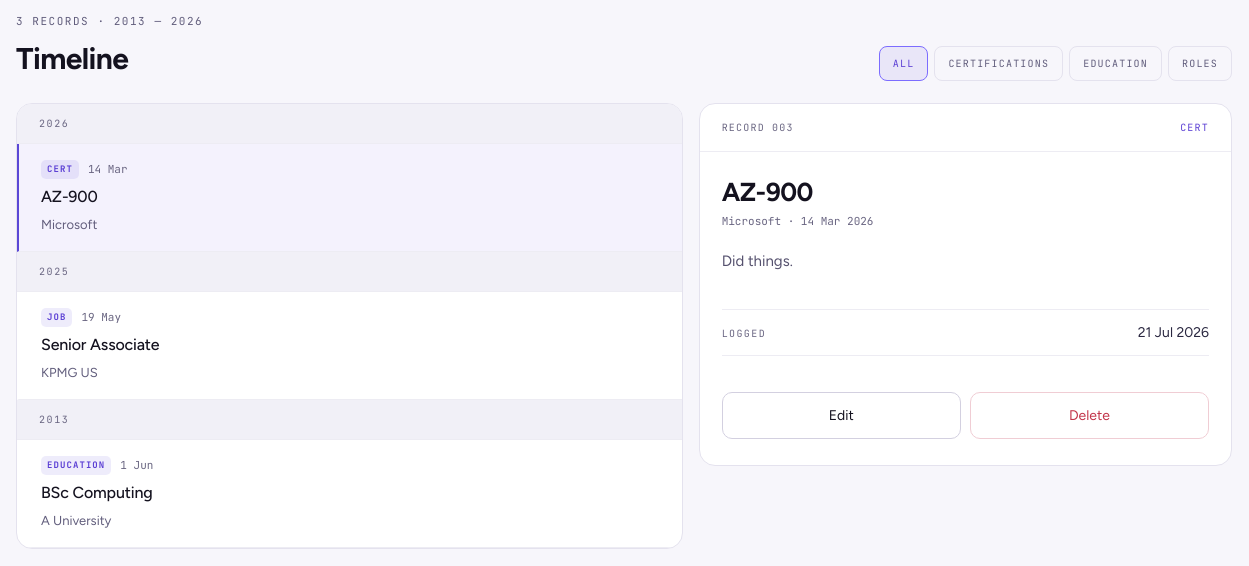
Test: filters (deviation from the handoff) › narrows the list to the chosen type
This screenshot has width=1249, height=566.
Click the button "Certifications": [999, 63] box x1=934 y1=46 x2=1063 y2=80
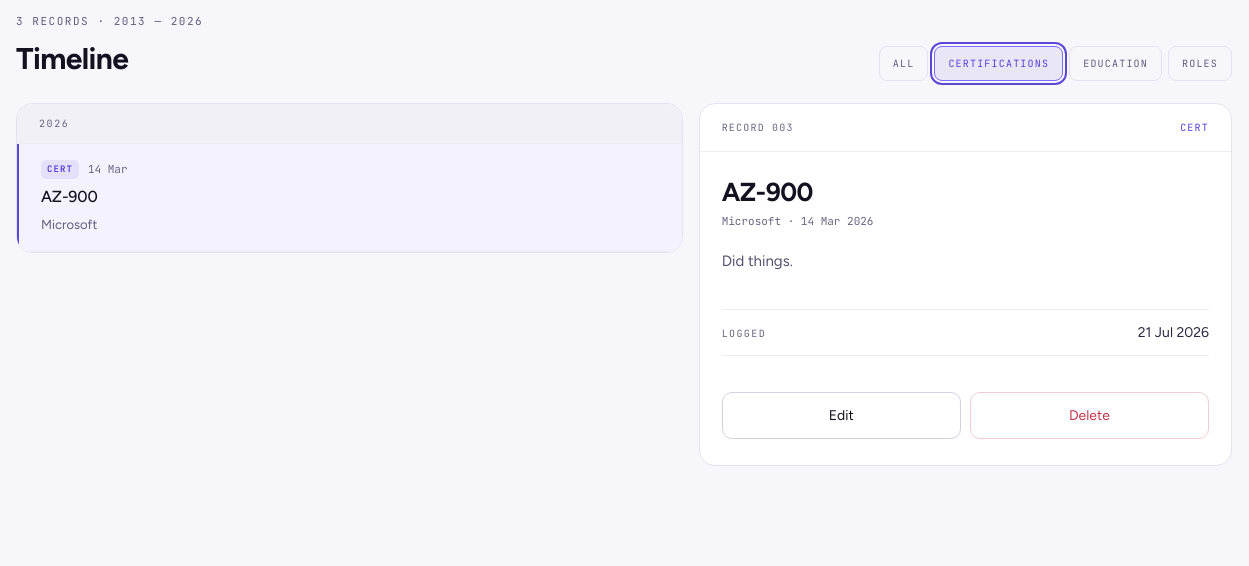
Check: the button "CERT 14 Mar AZ-900 Microsoft" is shown, box x1=17 y1=144 x2=682 y2=252
Check: the button "Senior Associate" is gone
